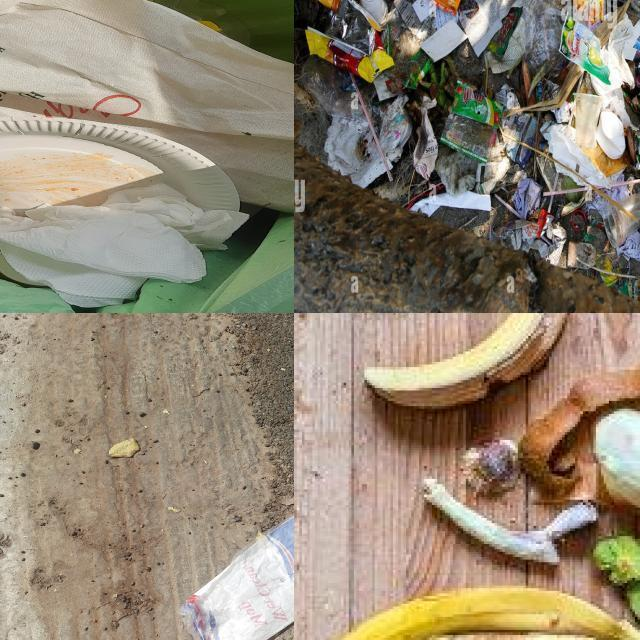Background: (0, 313, 294, 640)
Disposable: (604, 192, 640, 248), (575, 92, 602, 148), (361, 0, 387, 24)
Garbage: (331, 313, 640, 640), (309, 0, 640, 282)
Plastic: (0, 117, 240, 211)
Plastic_Bag: (181, 516, 294, 640), (150, 0, 249, 45), (522, 0, 569, 75)
Plastic_wraper: (306, 0, 394, 82), (440, 80, 503, 163), (560, 17, 610, 85), (488, 8, 522, 57), (404, 48, 432, 88), (536, 209, 548, 237), (634, 39, 640, 57)
